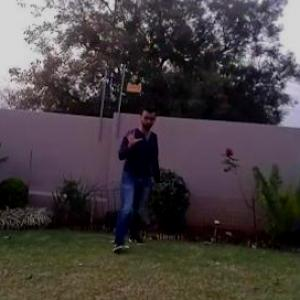follow_hand: (122, 122, 144, 148)
